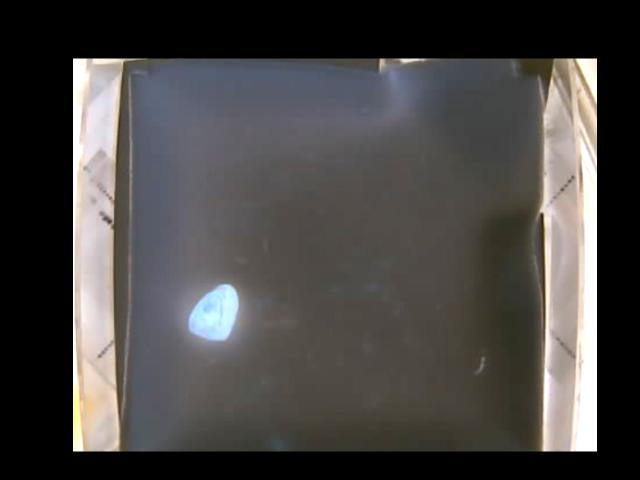Pebble: (188, 282, 237, 342)
